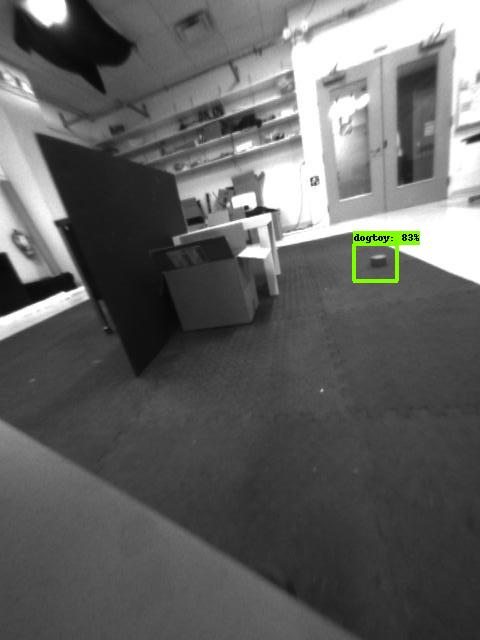dogtoy: (350, 242, 395, 280)
